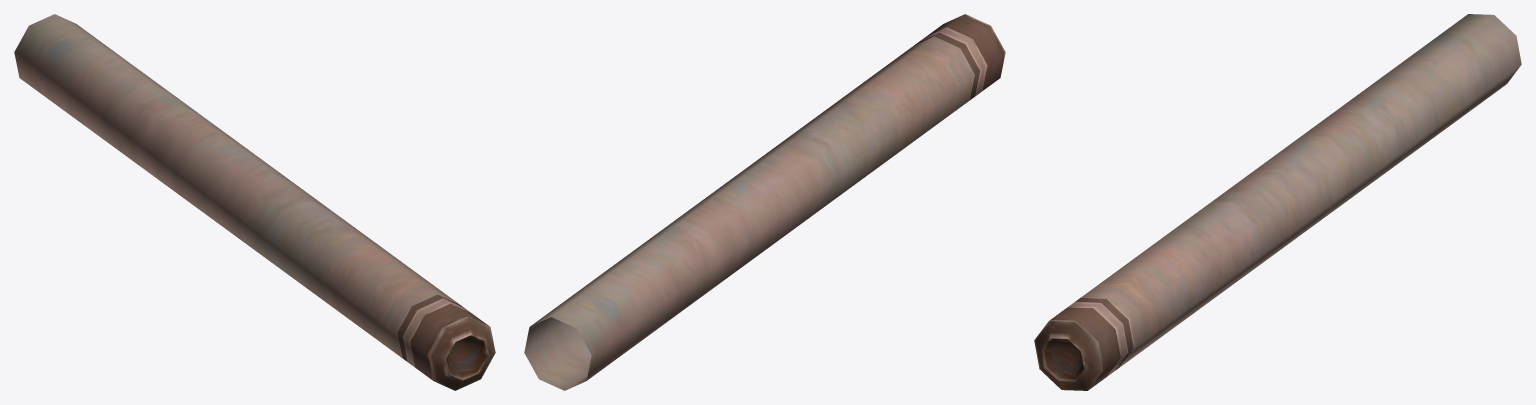
Rendered from merchant_cruiser_medium_turretbarrel_s01_l1.fbx.
The picture shows the model from 3 angles, left to right: view 1: azimuth 30°, elevation 25°; view 2: azimuth 150°, elevation 25°; view 3: azimuth 330°, elevation 25°; orthographic projection.
Visible parts, largest first — view 1: mesh_node; view 2: mesh_node; view 3: mesh_node.
Part boxes in pixels (x1=…): mesh_node: x1=14, y1=14, x2=495, y2=390; mesh_node: x1=524, y1=14, x2=1005, y2=390; mesh_node: x1=1034, y1=14, x2=1521, y2=390.
Bounding box in the file's own units: 0.506 × 0.5068 × 5.45.
1 material, 1 textured.
